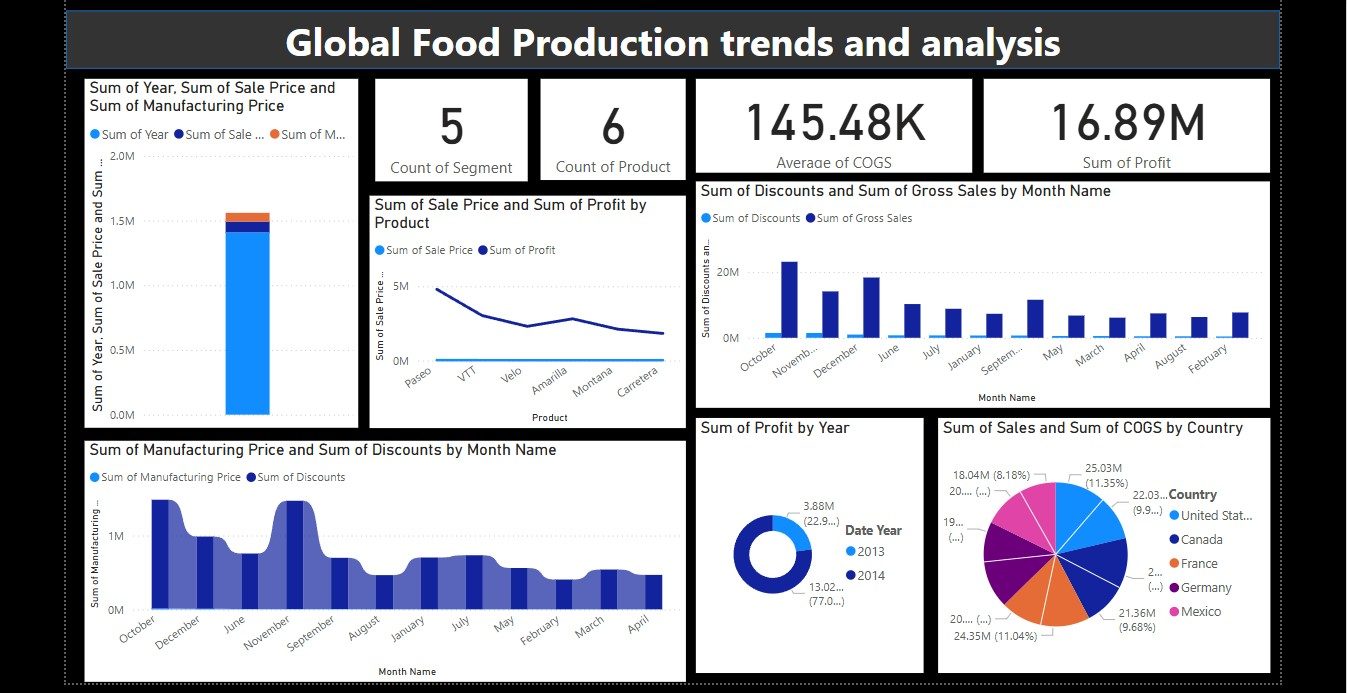

Layout of this report page (visuals, bound fields, positions):
{"tool":"powerbi","page":{"name":"Page 1","canvas":[1280,720],"ordinal":0},"visuals":[{"type":"card","fields":{"Values":["Avg(Sheet1.COGS)"]},"box":[663.7,84.1,291.3,99.1],"z":0},{"type":"card","fields":{"Values":["Sum(Sheet1.Profit)"]},"box":[967,84.1,301.8,99.1],"z":1000},{"type":"card","fields":{"Values":["Count(Sheet1.Product)"]},"box":[500,84.1,153.2,106.6],"z":2000},{"type":"pieChart","fields":{"Y":["Sum(Sheet1. Sales)","Sum(Sheet1.COGS)"],"Category":["Sheet1.Country"]},"box":[918.9,441.4,349.9,268.8],"z":3000},{"type":"clusteredColumnChart","fields":{"Category":["Sheet1.Month Name"],"Y":["Sum(Sheet1.Discounts)","Sum(Sheet1.Gross Sales)"]},"box":[663.7,192.2,605.1,238.7],"z":4000},{"type":"donutChart","fields":{"Category":["Sheet1.Date.Variation.Date Hierarchy.Year","Sheet1.Date.Variation.Date Hierarchy.Quarter","Sheet1.Date.Variation.Date Hierarchy.Month","Sheet1.Date.Variation.Date Hierarchy.Day","Sheet1.Product"],"Y":["Sum(Sheet1.Profit)"]},"box":[663.7,441.4,240.2,268.8],"z":5000},{"type":"lineChart","fields":{"Y":["Sum(Sheet1.Sale Price)","Sum(Sheet1.Profit)"],"Category":["Sheet1.Product"]},"box":[319.8,207.2,333.3,244.7],"z":6000},{"type":"lineStackedColumnComboChart","fields":{"Y":["Sum(Sheet1.Year)","Sum(Sheet1.Sale Price)","Sum(Sheet1.Manufacturing Price)"]},"box":[19.5,84.1,288.3,367.9],"z":7000},{"type":"card","fields":{"Values":["Count(Sheet1.Segment)"]},"box":[325.8,84.1,160.7,108.1],"z":8000},{"type":"ribbonChart","fields":{"Y":["Sum(Sheet1.Manufacturing Price)","Sum(Sheet1.Discounts)"],"Category":["Sheet1.Month Name"]},"box":[19.5,465.5,633.6,253.8],"z":9000},{"type":"shape","box":[0,12,1279.3,61.6],"z":10000}]}

Visuals, with their boxes in screenshot pixels (x1, y1, x2, y2):
card - Avg(Sheet1.COGS): (left=695, top=76, right=972, bottom=171)
card - Sum(Sheet1.Profit): (left=983, top=76, right=1270, bottom=171)
card - Count(Sheet1.Product): (left=539, top=76, right=685, bottom=178)
pieChart - Sum(Sheet1. Sales) x Sum(Sheet1.COGS): (left=937, top=416, right=1270, bottom=672)
clusteredColumnChart - Sheet1.Month Name x Sum(Sheet1.Discounts): (left=695, top=179, right=1270, bottom=406)
donutChart - Sheet1.Date.Variation.Date Hierarchy.Year x Sheet1.Date.Variation.Date Hierarchy.Quarter: (left=695, top=416, right=923, bottom=672)
lineChart - Sum(Sheet1.Sale Price) x Sum(Sheet1.Profit): (left=367, top=194, right=684, bottom=426)
lineStackedColumnComboChart - Sum(Sheet1.Year) x Sum(Sheet1.Sale Price): (left=82, top=76, right=356, bottom=426)
card - Count(Sheet1.Segment): (left=373, top=76, right=526, bottom=179)
ribbonChart - Sum(Sheet1.Manufacturing Price) x Sum(Sheet1.Discounts): (left=82, top=439, right=684, bottom=681)
shape: (left=63, top=8, right=1280, bottom=67)
